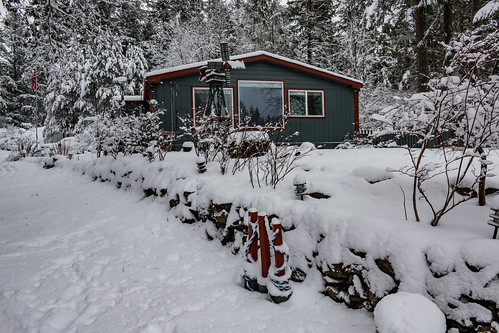building: (148, 45, 362, 146)
vegetation: (1, 1, 146, 132), (368, 1, 499, 137), (149, 1, 358, 57)
